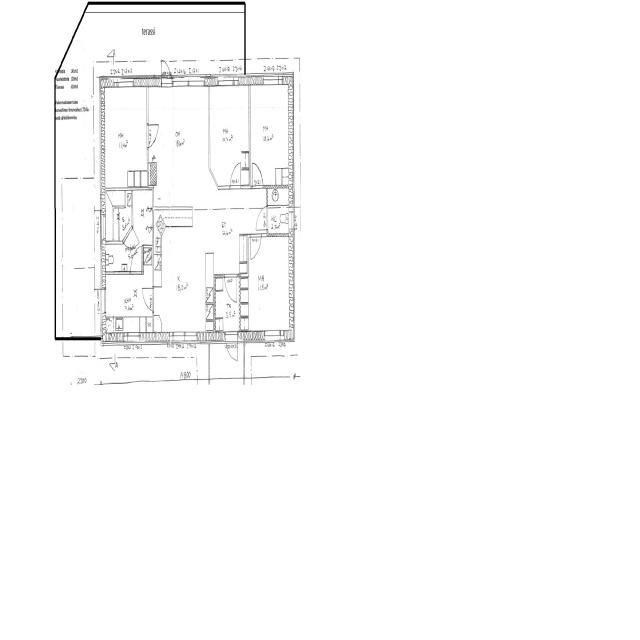door: (122, 225, 140, 262), (225, 331, 238, 372), (89, 288, 106, 313), (224, 274, 237, 304), (162, 51, 172, 87), (130, 247, 142, 274), (255, 206, 268, 230), (252, 161, 263, 188), (250, 233, 261, 260), (230, 161, 240, 188), (142, 288, 154, 310), (147, 125, 158, 147)
